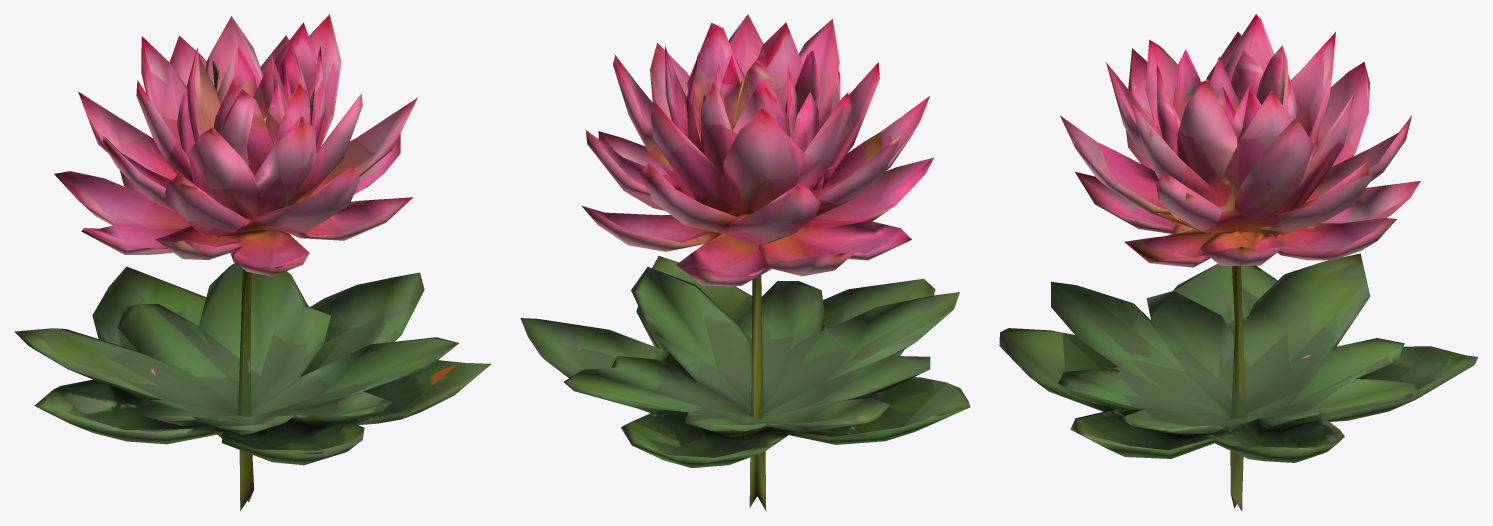
The model's file is nenufar.fbx.
The picture shows the model from 3 angles, left to right: view 1: azimuth 30°, elevation 25°; view 2: azimuth 150°, elevation 25°; view 3: azimuth 270°, elevation 25°; orthographic projection.
Parts seen in each view (by area): view 1: Mesh_0; view 2: Mesh_0; view 3: Mesh_0.
Boxes of the visible parts, x1=… form: Mesh_0: x1=14, y1=14, x2=491, y2=511; Mesh_0: x1=520, y1=14, x2=970, y2=511; Mesh_0: x1=999, y1=14, x2=1478, y2=511.
Bounding box in the file's own units: 188 × 198 × 186.
Materials: 1 (1 with a texture image).
